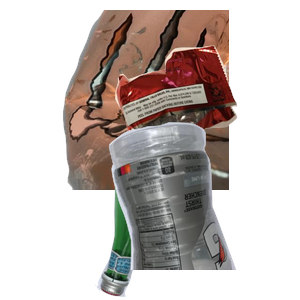glass: (93, 143, 284, 300)
metal: (60, 10, 300, 190)
plastic: (106, 120, 300, 300)
trash: (113, 43, 300, 181)
